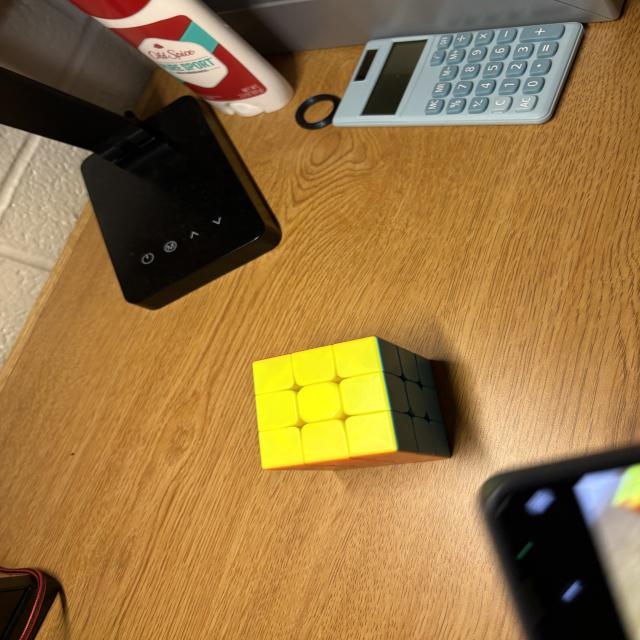Rubiks Cube: (254, 338, 452, 474)
